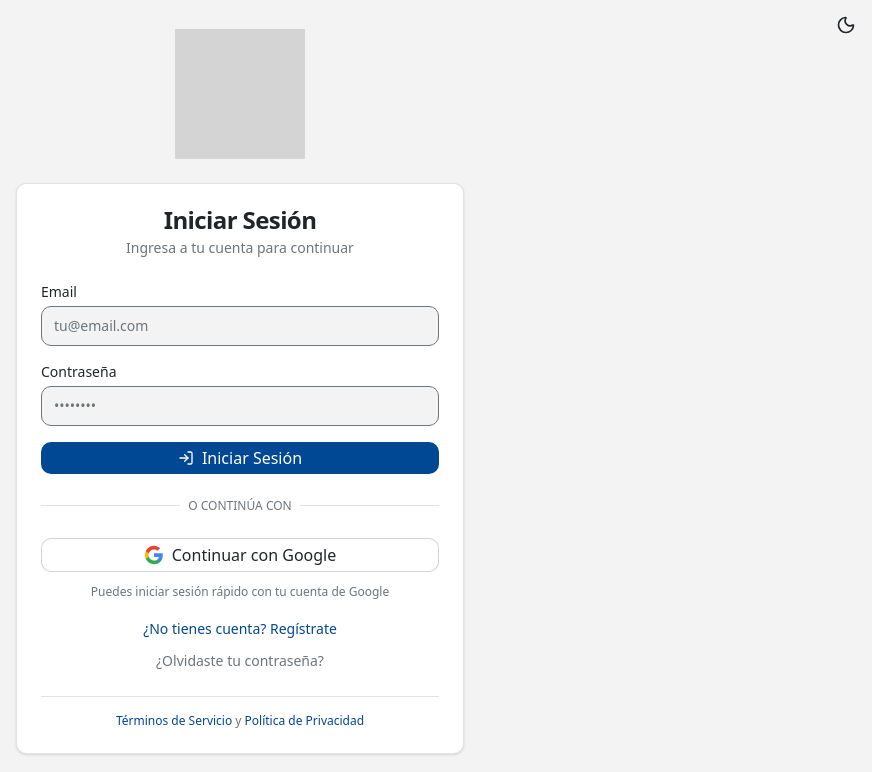
Scenario: AuthPage - Google Authentication › debería deshabilitar el botón de Google mientras carga
Step 1. Click the button "Continuar con Google" → point(240, 554), box [41,538,439,572]
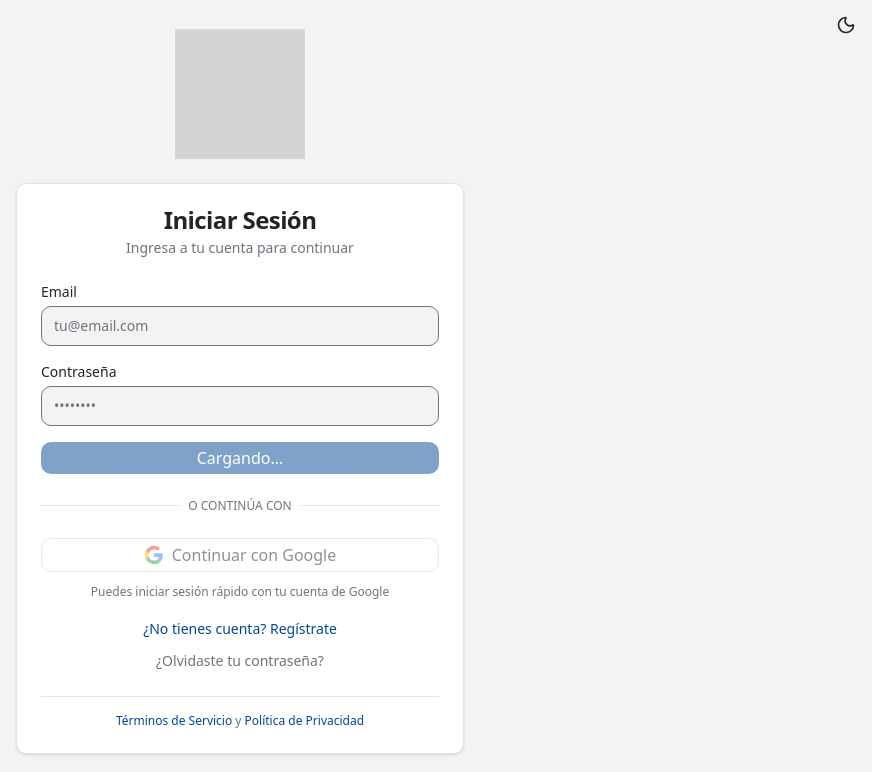
Expected: the button "Continuar con Google" is disabled, [41,538,439,572]
